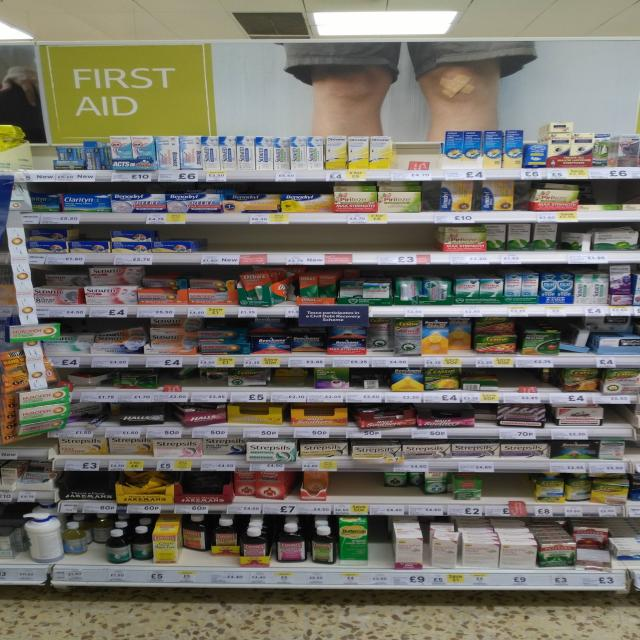void: (207, 227, 440, 254), (395, 123, 443, 172), (332, 474, 379, 503), (503, 371, 559, 392), (494, 475, 531, 503)
